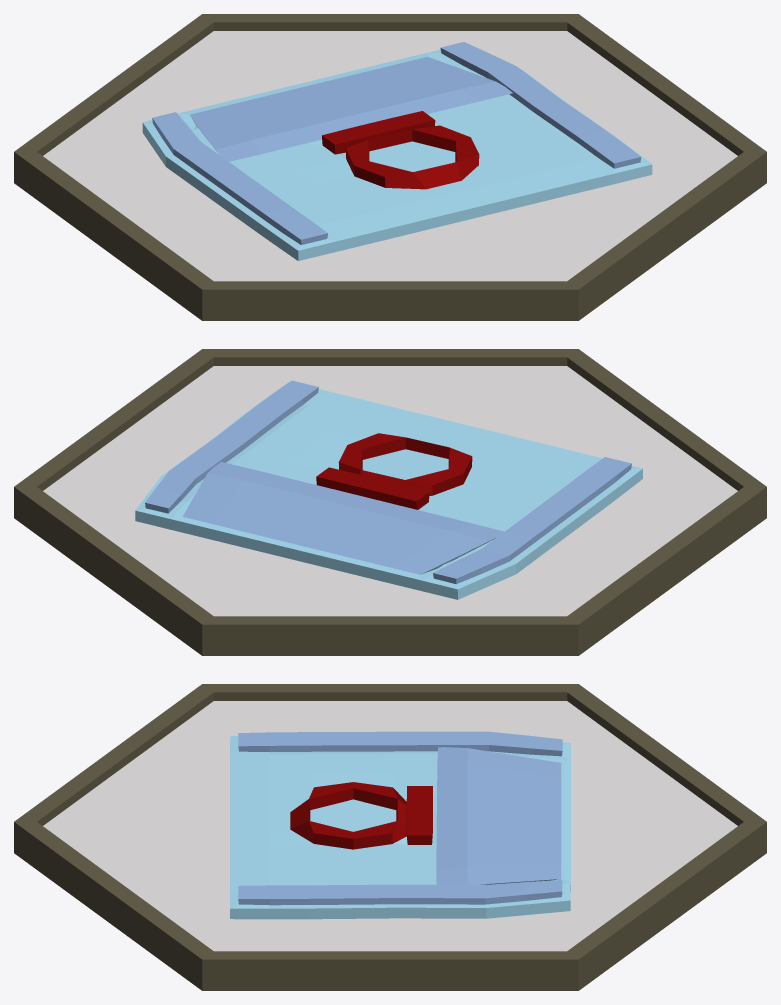
File: ChestRareDice.fbx
3 views of the same model, one above another, from view 1: azimuth 30°, elevation 25°; view 2: azimuth 150°, elevation 25°; view 3: azimuth 270°, elevation 25° (orthographic).
Visible parts, largest first — view 1: ChestRare; view 2: ChestRare; view 3: ChestRare.
Boxes of the visible parts, <box> form: ChestRare: <box>14,14,766,320</box>; ChestRare: <box>14,349,766,655</box>; ChestRare: <box>14,684,766,990</box>.
Bounding box in the file's own units: 314 × 24.14 × 363.
